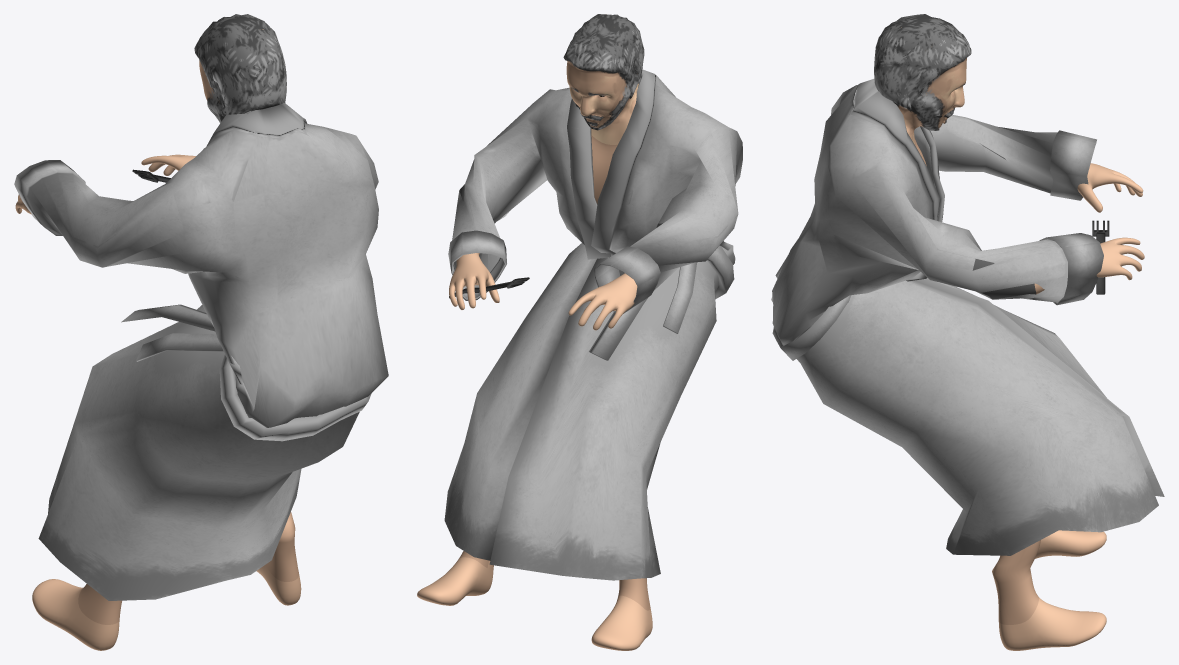
Rendered from field_alan.gltf.
3 renders of one model, left to right at view 1: azimuth 30°, elevation 25°; view 2: azimuth 150°, elevation 25°; view 3: azimuth 270°, elevation 25°, orthographic. The views are drawn at different scales.
Visible parts, largest first — view 1: Mesh.018; view 2: Mesh.018; view 3: Mesh.018.
Part boxes in pixels (x1,y1,x2,y2): Mesh.018: (14,14,388,650); Mesh.018: (417,14,742,650); Mesh.018: (771,14,1164,650).
Bounding box in the file's own units: 2.08 × 4.44 × 2.7.
5 materials, 3 textured.
